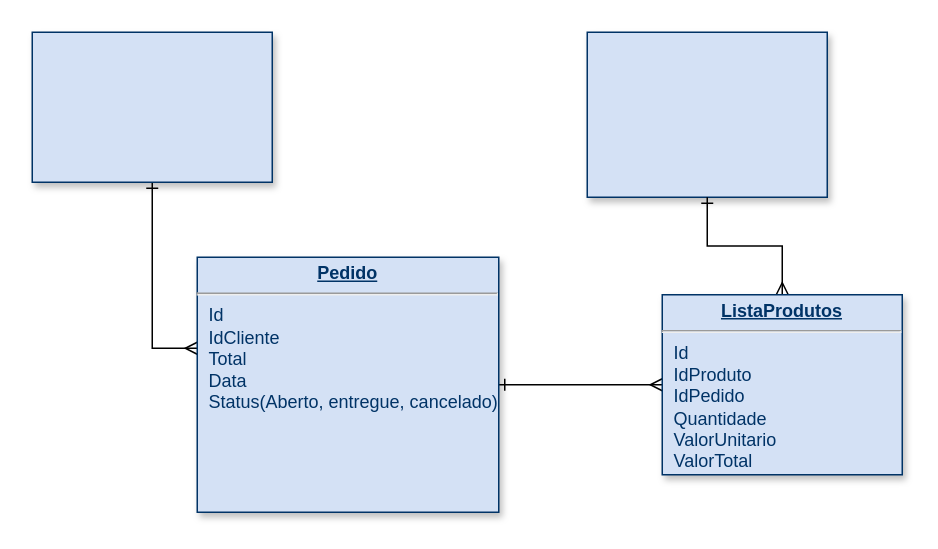
This 938x549 diagram has some shape labels left out. Here are the shapes that lost their labels. From the top down, the centre of each, then its label:
point 153,109: Cliente Id Nome Telefone Endereço
point 708,116: Produto Id Codigo Nome Descricao Preco
